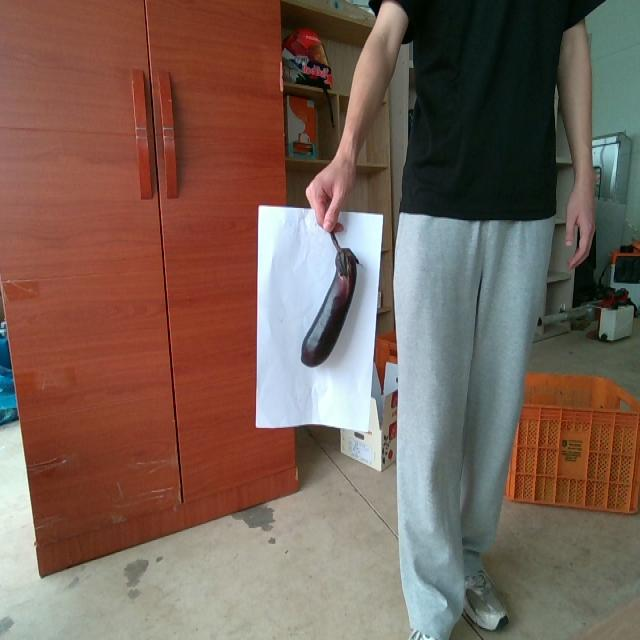Egg plant: (301, 233, 358, 365)
